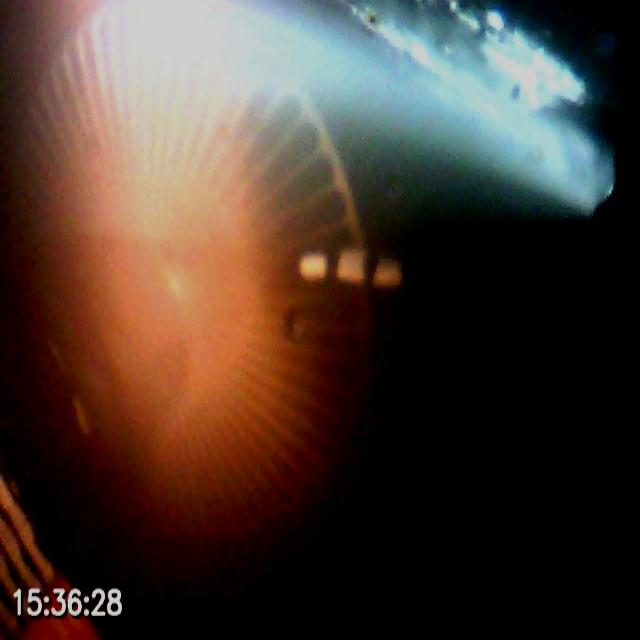white-dots: (295, 242, 405, 292)
